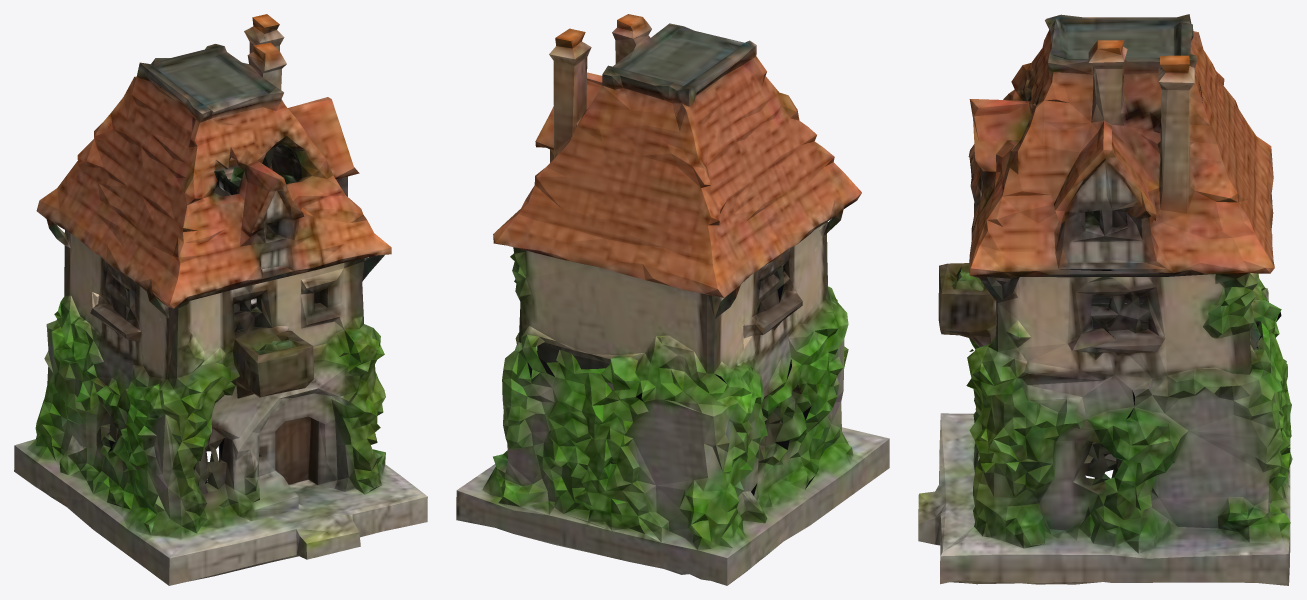
The model's file is house_ivy_damaged_lod0.glb.
3 views of the same model, side by side, from view 1: azimuth 30°, elevation 25°; view 2: azimuth 150°, elevation 25°; view 3: azimuth 270°, elevation 25° (orthographic). The views are drawn at different scales.
Parts seen in each view (by area): view 1: house_ivy_damaged_lod0; view 2: house_ivy_damaged_lod0; view 3: house_ivy_damaged_lod0.
Boxes of the visible parts, x1=… form: house_ivy_damaged_lod0: x1=14, y1=14, x2=427, y2=585; house_ivy_damaged_lod0: x1=456, y1=14, x2=889, y2=585; house_ivy_damaged_lod0: x1=918, y1=14, x2=1292, y2=585.
Bounding box in the file's own units: 4.94 × 8.04 × 5.49.
Materials: 1 (1 with a texture image).
